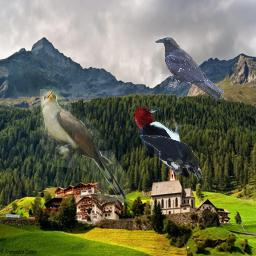Crow: (154, 36, 224, 102), (140, 135, 198, 175)
Cuckoo: (40, 89, 129, 203)
Woodpecker: (135, 106, 205, 181)
